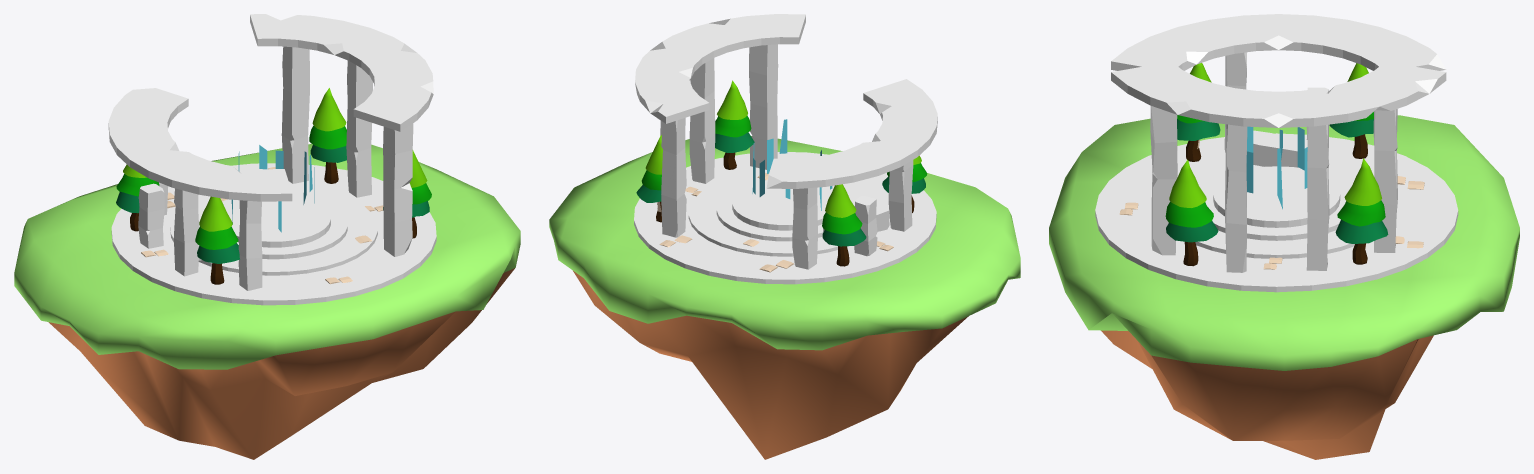
File: Portal Panggung.fbx
3 renders of one model, left to right at view 1: azimuth 30°, elevation 25°; view 2: azimuth 150°, elevation 25°; view 3: azimuth 270°, elevation 25°, orthographic. The views are drawn at different scales.
Visible parts, largest first — view 1: Pulau float A01.001, Circle.008, Circle.020, Column.006, Column.001, Column.002, Tree.053, Tree.054, Column.014, Column.015, Column.016, Tree.052 (+3 smaller); view 2: Pulau float A01.001, Circle.008, Circle.020, Column.006, Column.001, Column.004, Tree.055, Tree.052, Column.017, Column.015, Tree.054, Column.016 (+3 smaller); view 3: Pulau float A01.001, Circle.008, Circle.020, Column.006, Column.004, Column.002, Tree.054, Tree.055, Column.001, Column.018, Tree.053, Circle.056 (+3 smaller).
Part boxes in pixels (x1=…): Pulau float A01.001: x1=14, y1=144, x2=520, y2=459; Circle.008: x1=111, y1=163, x2=436, y2=305; Circle.020: x1=108, y1=14, x2=433, y2=201; Column.006: x1=383, y1=123, x2=413, y2=256; Column.001: x1=281, y1=46, x2=309, y2=183; Column.002: x1=346, y1=60, x2=372, y2=197; Tree.053: x1=195, y1=196, x2=239, y2=284; Tree.054: x1=309, y1=88, x2=346, y2=183; Column.014: x1=238, y1=200, x2=262, y2=290; Column.015: x1=173, y1=188, x2=199, y2=276; Column.016: x1=138, y1=183, x2=164, y2=248; Tree.052: x1=116, y1=164, x2=159, y2=231; Pulau float A01.001: x1=549, y1=136, x2=1020, y2=459; Circle.008: x1=634, y1=152, x2=936, y2=284; Circle.020: x1=635, y1=14, x2=937, y2=188; Column.006: x1=749, y1=44, x2=778, y2=169; Column.001: x1=661, y1=118, x2=686, y2=237; Column.004: x1=689, y1=58, x2=715, y2=183; Tree.055: x1=715, y1=80, x2=754, y2=169; Tree.052: x1=822, y1=184, x2=866, y2=266; Column.017: x1=792, y1=187, x2=817, y2=269; Column.015: x1=888, y1=160, x2=913, y2=231; Tree.054: x1=636, y1=135, x2=662, y2=222; Column.016: x1=854, y1=196, x2=877, y2=256; Pulau float A01.001: x1=1049, y1=115, x2=1519, y2=459; Circle.008: x1=1095, y1=133, x2=1458, y2=292; Circle.020: x1=1111, y1=14, x2=1446, y2=127; Column.006: x1=1150, y1=106, x2=1177, y2=255; Column.004: x1=1224, y1=124, x2=1247, y2=272; Column.002: x1=1306, y1=124, x2=1329, y2=270; Tree.054: x1=1335, y1=158, x2=1388, y2=264; Tree.055: x1=1165, y1=159, x2=1218, y2=266; Column.001: x1=1374, y1=109, x2=1397, y2=252; Column.018: x1=1253, y1=130, x2=1307, y2=167; Tree.053: x1=1177, y1=63, x2=1220, y2=161; Circle.056: x1=1246, y1=126, x2=1307, y2=209.
Size of the model in its own units: 1437 by 1140 by 1161.
1 material, 1 textured.
